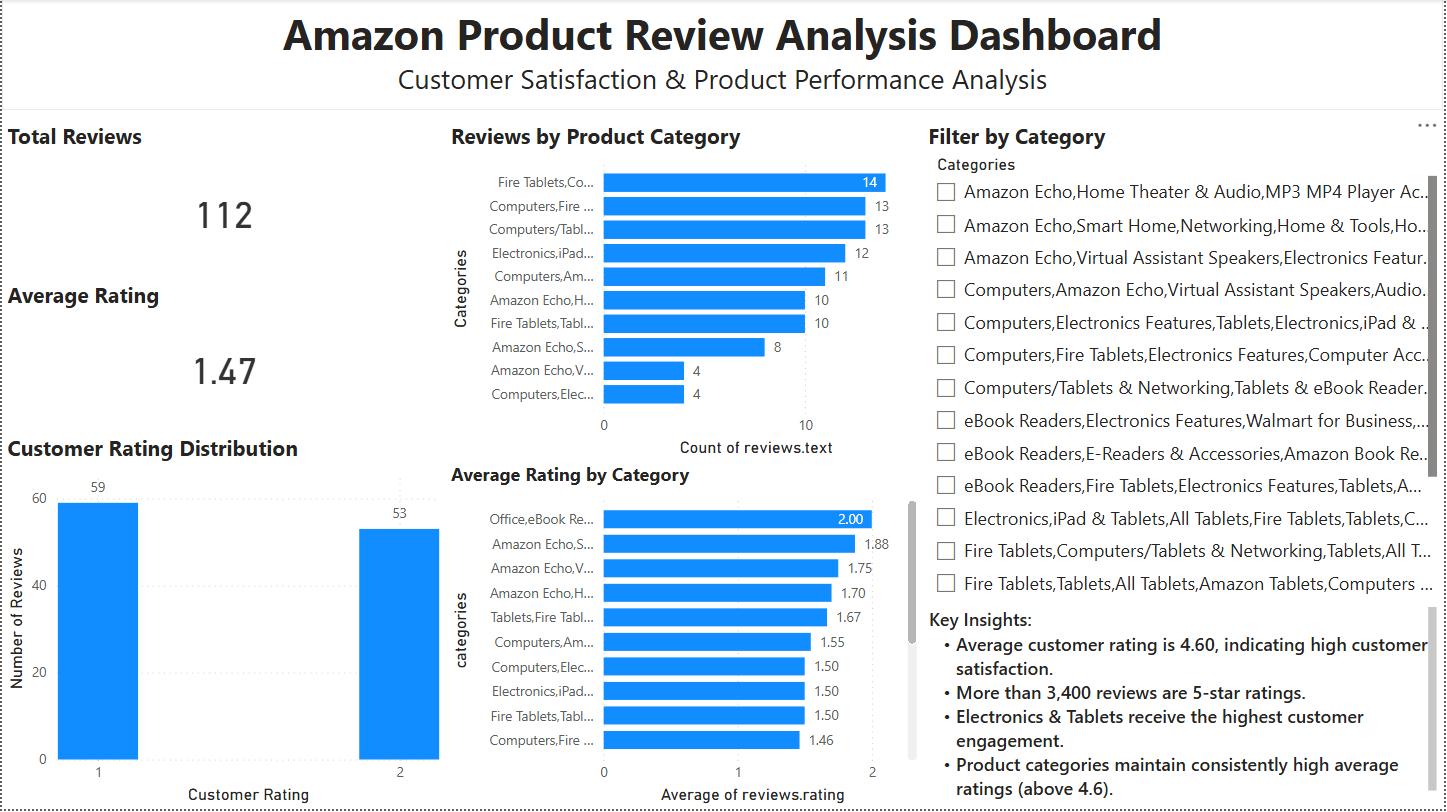

What the dashboard file says about the page in this screenshot:
{"tool":"powerbi","page":{"name":"Executive dashboard","canvas":[1280,720],"ordinal":0},"visuals":[{"type":"advanceCardE03760C5AB684758B56AA29F9E6C257B","title":"Total Reviews ","fields":{"mainMeasure":["CountNonNull(Datafiniti_Amazon_Consumer_Reviews_of_Amazon_Products csv.reviews.rating)"]},"box":[0,108.8,393.8,141.2],"z":0},{"type":"advanceCardE03760C5AB684758B56AA29F9E6C257B","title":"Average Rating","fields":{"mainMeasure":["Avg(Datafiniti_Amazon_Consumer_Reviews_of_Amazon_Products csv.reviews.rating)"]},"box":[0,250,393.8,136.2],"z":1000},{"type":"clusteredColumnChart","title":"Customer Rating Distribution","fields":{"Category":["Datafiniti_Amazon_Consumer_Reviews_of_Amazon_Products csv.reviews.rating"],"Y":["CountNonNull(Datafiniti_Amazon_Consumer_Reviews_of_Amazon_Products csv.reviews.text)"]},"box":[0,386.2,393.8,333.8],"z":2000},{"type":"clusteredBarChart","title":"Reviews by Product Category","fields":{"Y":["CountNonNull(Datafiniti_Amazon_Consumer_Reviews_of_Amazon_Products csv.reviews.text)"],"Category":["Datafiniti_Amazon_Consumer_Reviews_of_Amazon_Products csv.categories"]},"box":[393.8,108.8,423.8,302.5],"z":3000},{"type":"clusteredBarChart","title":"Average Rating by Category","fields":{"Category":["Datafiniti_Amazon_Consumer_Reviews_of_Amazon_Products csv.categories"],"Y":["Avg(Datafiniti_Amazon_Consumer_Reviews_of_Amazon_Products csv.reviews.rating)"]},"box":[393.8,411.2,423.8,308.8],"z":4000},{"type":"slicer","title":"Filter by Category","fields":{"Values":["Datafiniti_Amazon_Consumer_Reviews_of_Amazon_Products csv.categories"]},"box":[817.4,108.4,461.7,426.8],"z":5000},{"type":"textbox","box":[0,0,1279.6,99.4],"z":6000},{"type":"textbox","box":[818.5,535.2,460.6,185.4],"z":7000}]}

Visuals, with their boxes in screenshot pixels (x1, y1, x2, y2), scaled from the page's 1280x720 canvas onto the 1447x812 screenshot:
"Total Reviews " advanceCardE03760C5AB684758B56AA29F9E6C257B: <region>0, 123, 445, 282</region>
"Average Rating" advanceCardE03760C5AB684758B56AA29F9E6C257B: <region>0, 282, 445, 436</region>
"Customer Rating Distribution" clusteredColumnChart: <region>0, 436, 445, 811</region>
"Reviews by Product Category" clusteredBarChart: <region>445, 123, 924, 464</region>
"Average Rating by Category" clusteredBarChart: <region>445, 464, 924, 811</region>
"Filter by Category" slicer: <region>924, 122, 1446, 604</region>
textbox: <region>0, 0, 1446, 112</region>
textbox: <region>925, 604, 1446, 811</region>
